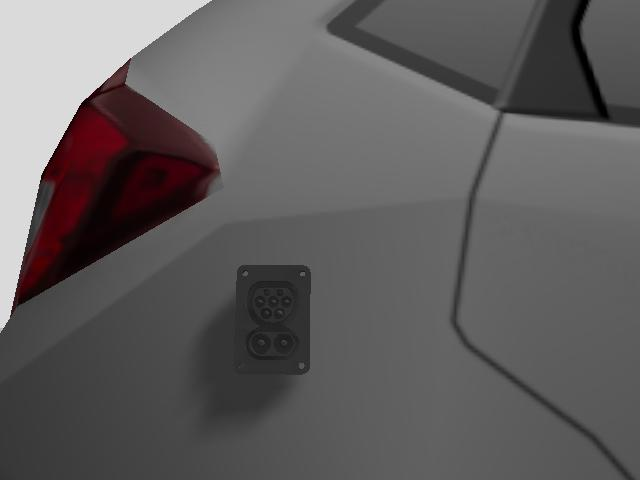EV-socket: (231, 262, 312, 378)
